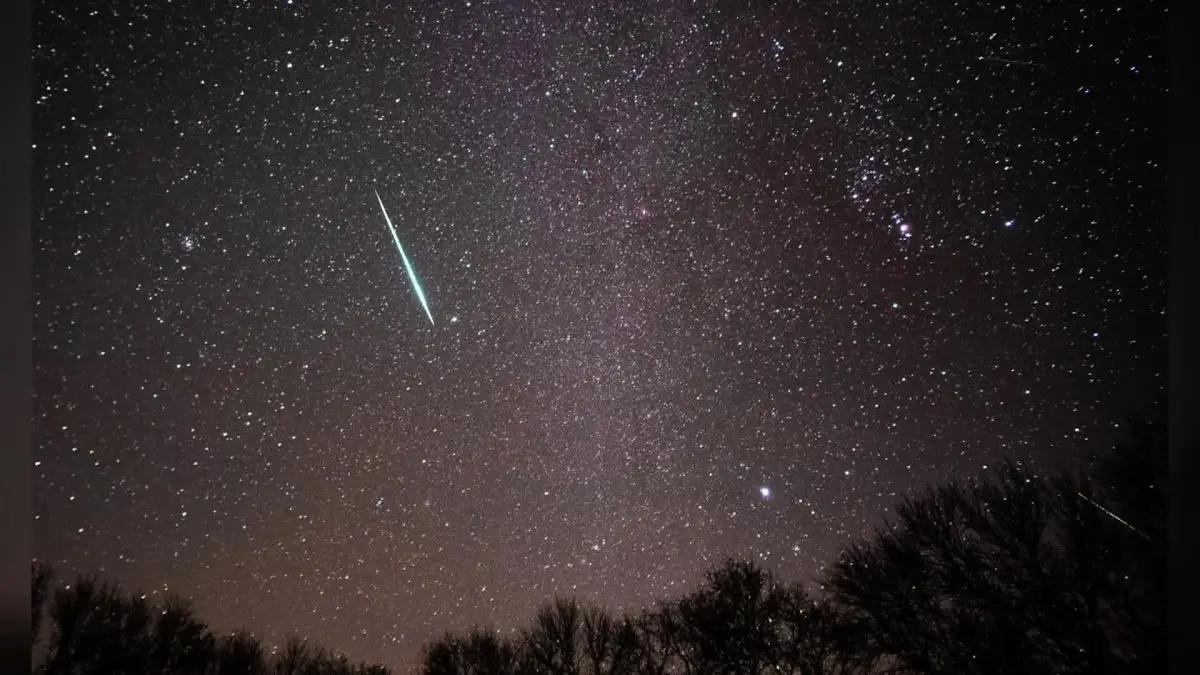meteorite: (328, 170, 477, 334), (1071, 483, 1145, 560)
